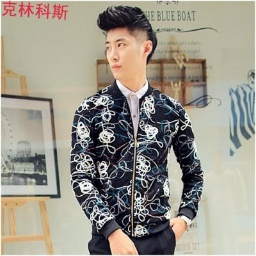face: (98, 6, 157, 81)
